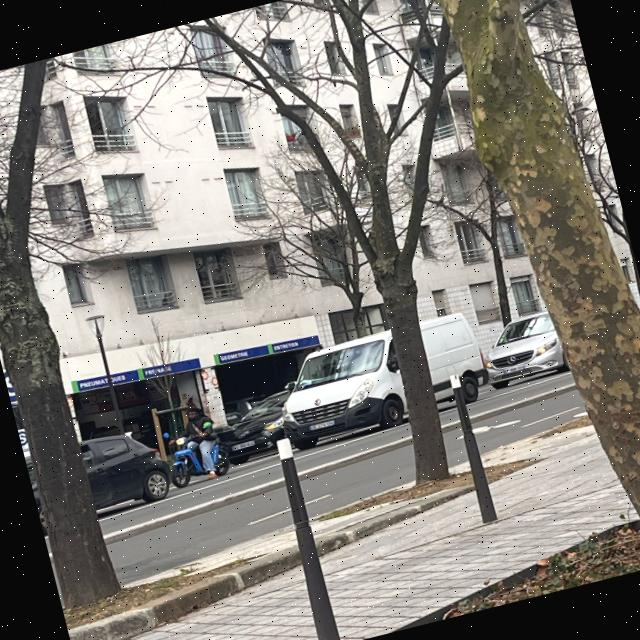Autre: (301, 410, 344, 436)
